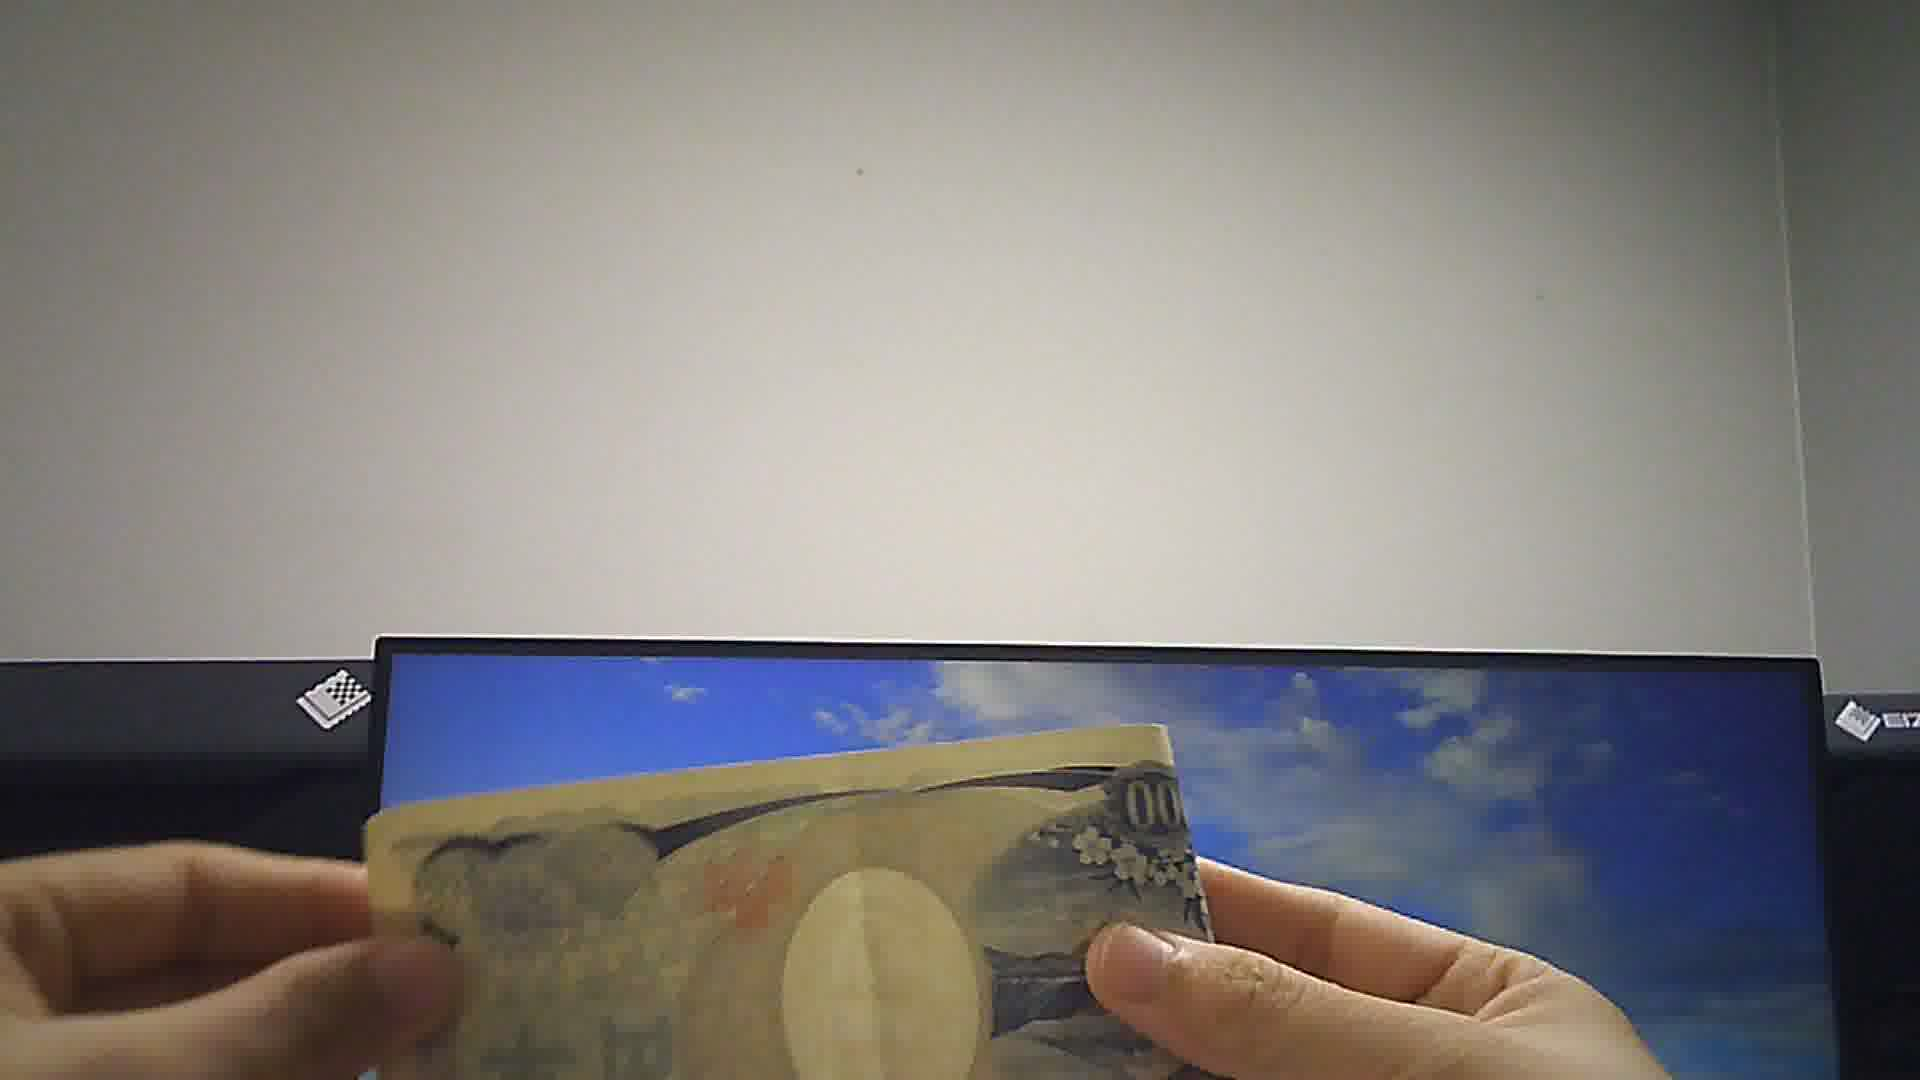1,000 Yen: (371, 719, 1201, 1064)
